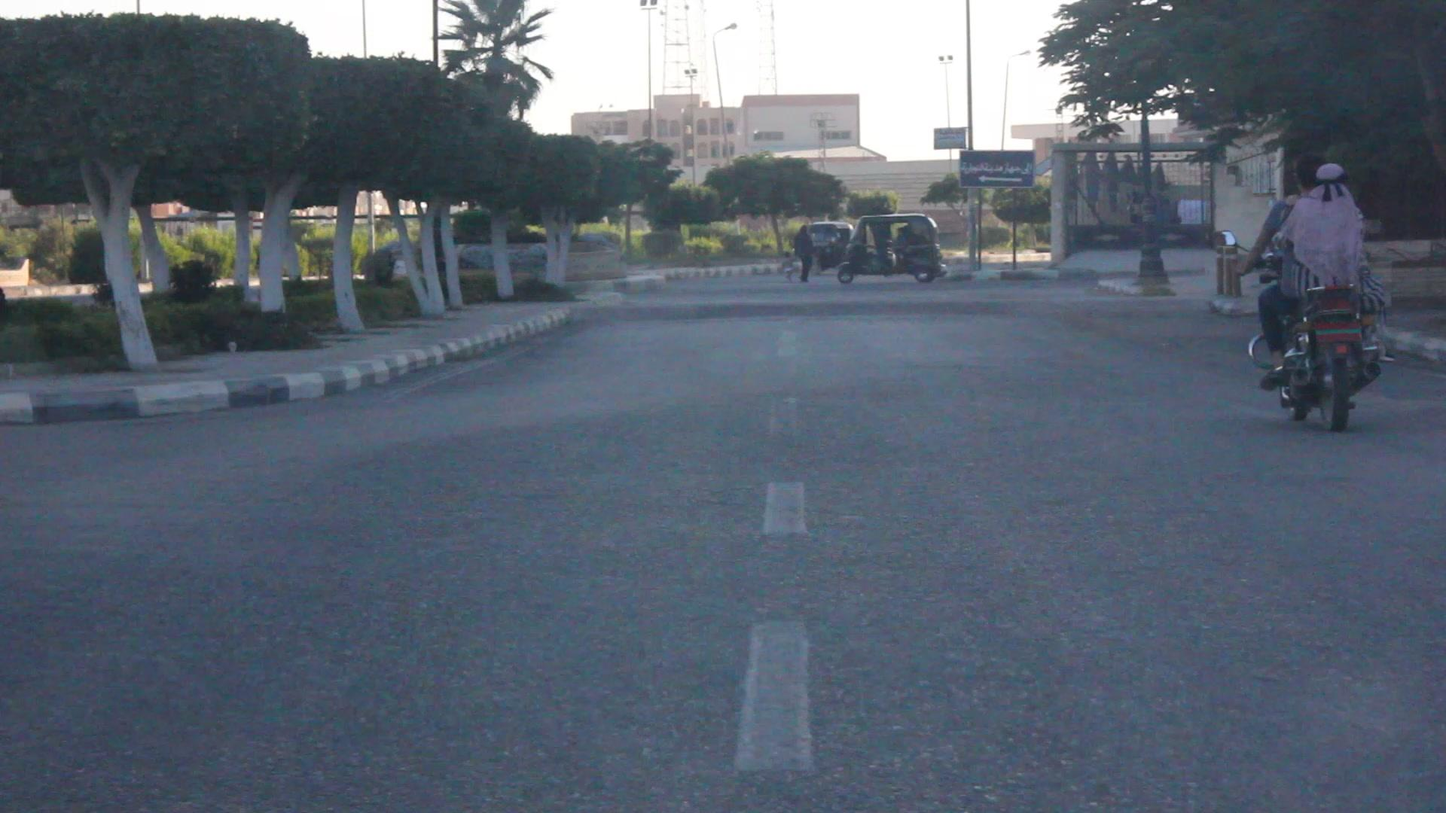Bump: (582, 295, 1149, 320)
